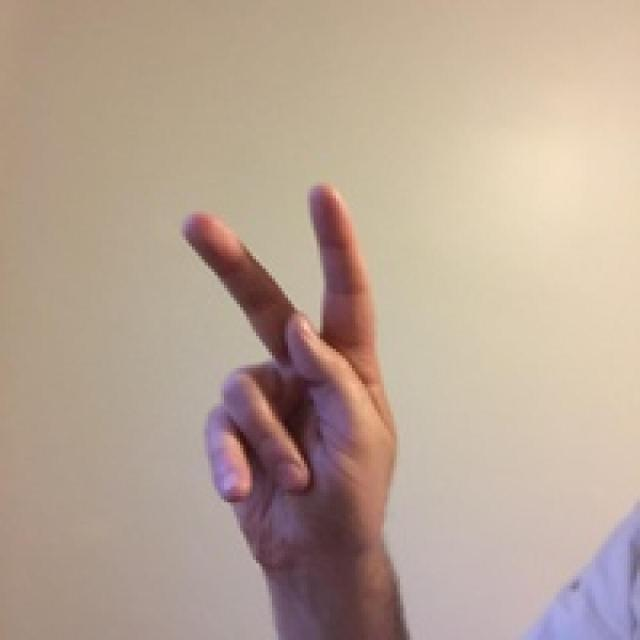K: (123, 157, 484, 586)
